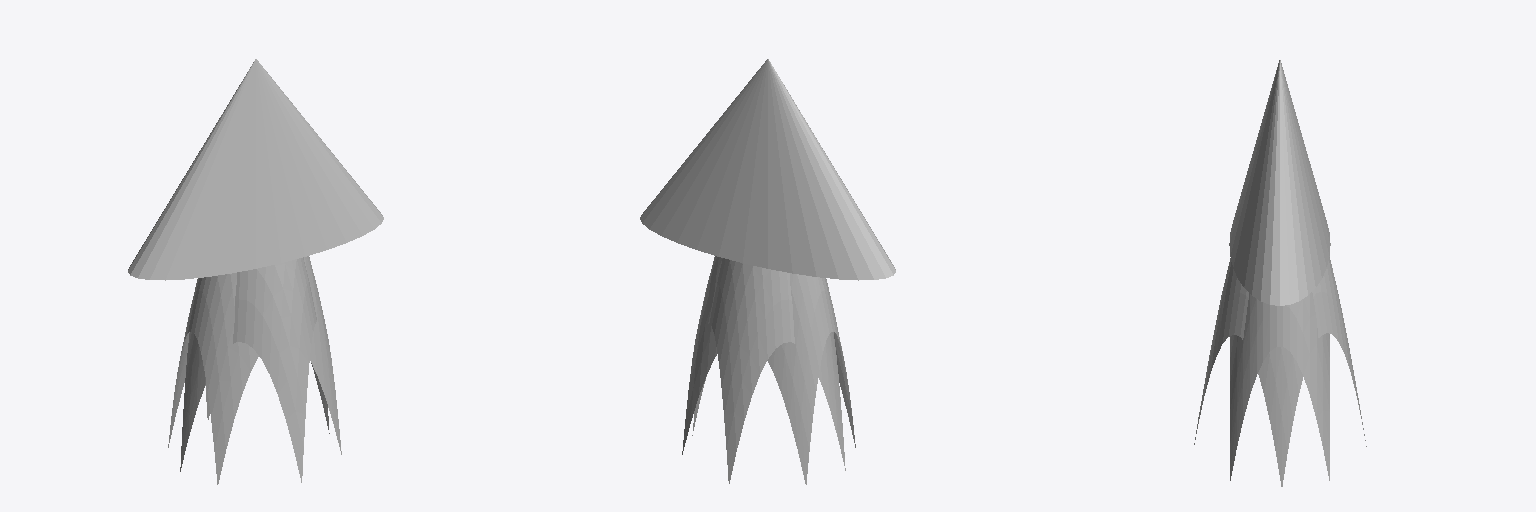
File: greenSquid.obj
3 renders of one model, left to right at view 1: azimuth 30°, elevation 25°; view 2: azimuth 150°, elevation 25°; view 3: azimuth 270°, elevation 25°, orthographic.
Visible parts, largest first — view 1: 円錐, NURBSサーフェス.001, NURBSサーフェス; view 2: 円錐, NURBSサーフェス.001, NURBSサーフェス; view 3: 円錐, NURBSサーフェス, NURBSサーフェス.001.
Part boxes in pixels (bbox=[...]): 円錐: bbox=[128, 59, 383, 280]; NURBSサーフェス.001: bbox=[180, 257, 329, 482]; NURBSサーフェス: bbox=[168, 256, 341, 484]; 円錐: bbox=[640, 59, 895, 280]; NURBSサーフェス.001: bbox=[692, 258, 845, 483]; NURBSサーフェス: bbox=[682, 256, 855, 484]; 円錐: bbox=[1229, 60, 1330, 305]; NURBSサーフェス: bbox=[1230, 292, 1329, 480]; NURBSサーフェス.001: bbox=[1194, 257, 1366, 486].
Bounding box in the file's own units: 2.91 × 4.37 × 1.75.